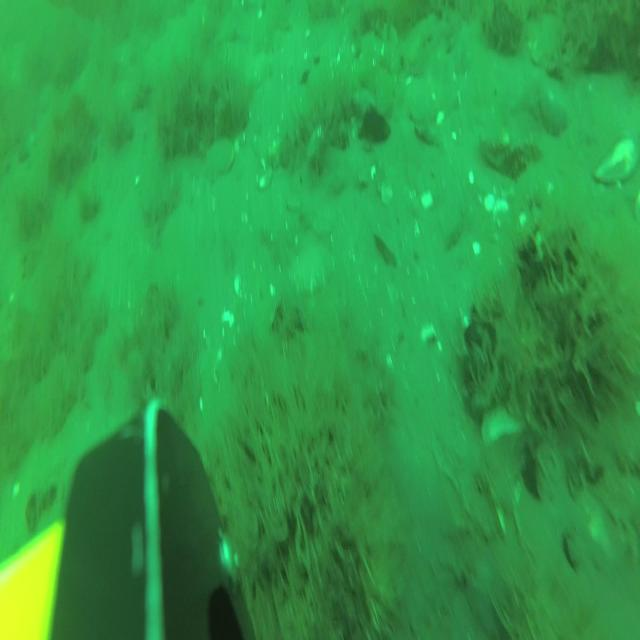scallop: (287, 246, 333, 292), (204, 136, 236, 173), (409, 88, 439, 124), (312, 210, 333, 234)
